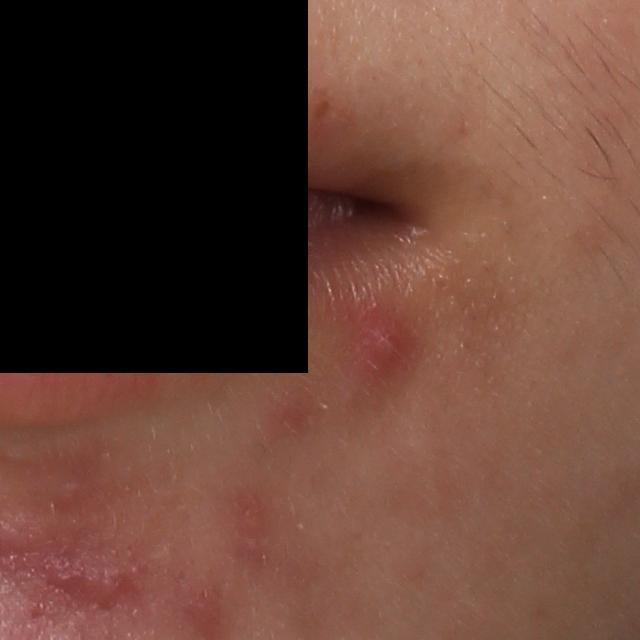papule: (353, 317, 404, 380), (91, 564, 128, 608), (189, 590, 218, 640)
